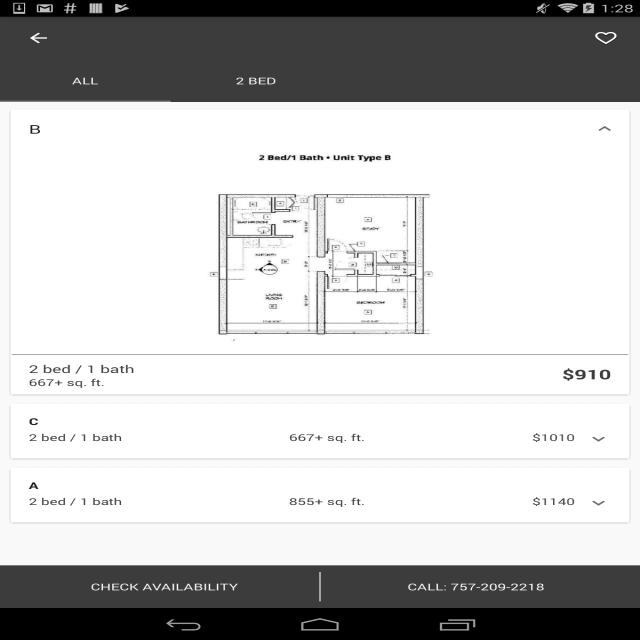Button: (8, 565, 320, 608), (320, 565, 632, 608)
ImageButton: (9, 17, 68, 59)
ImageView: (12, 148, 628, 348), (592, 120, 618, 136)
TextView: (29, 121, 575, 137), (29, 415, 628, 428), (29, 479, 628, 492), (29, 431, 289, 444), (29, 495, 289, 508), (432, 431, 611, 447), (432, 495, 611, 511), (289, 431, 432, 444), (289, 495, 432, 508), (580, 22, 632, 54), (29, 362, 134, 376), (29, 376, 104, 389), (562, 365, 611, 383), (236, 74, 276, 87), (72, 74, 98, 87)
